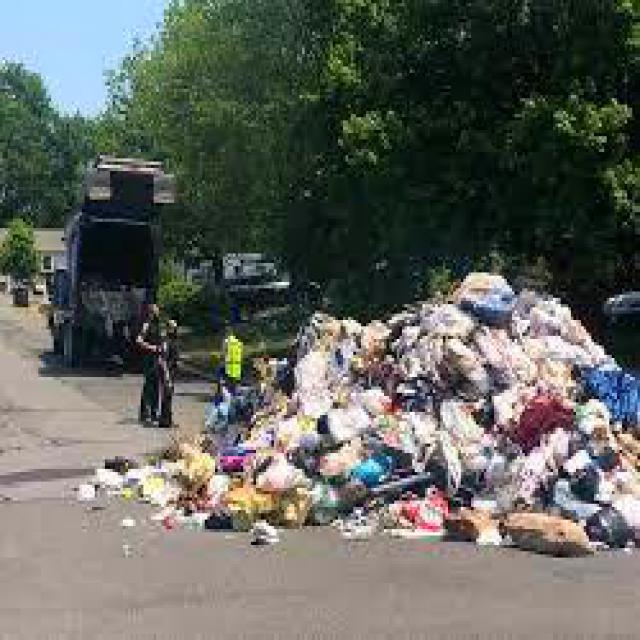garbage: (338, 294, 637, 558), (225, 367, 338, 526), (115, 440, 233, 526)
